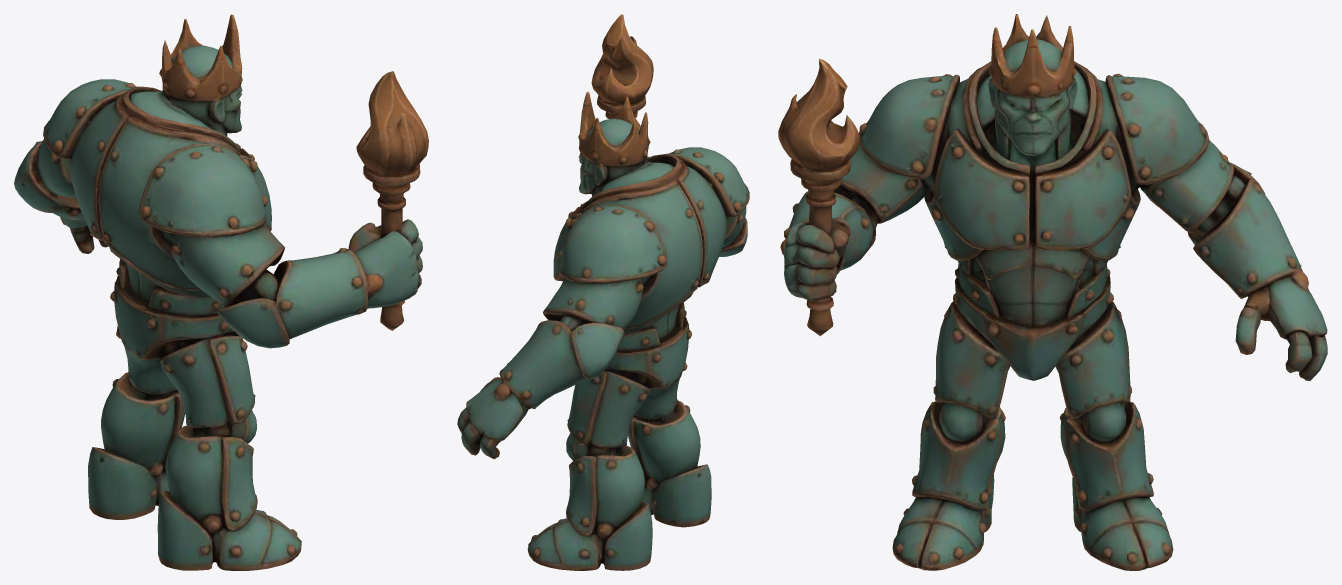
Rendered from copperGolem.glb.
3 renders of one model, left to right at view 1: azimuth 30°, elevation 25°; view 2: azimuth 150°, elevation 25°; view 3: azimuth 270°, elevation 25°, orthographic. The views are drawn at different scales.
Visible parts, largest first — view 1: geometry_0; view 2: geometry_0; view 3: geometry_0.
Boxes of the visible parts, x1,y1,x2,y2 form: geometry_0: (14, 14, 428, 570); geometry_0: (457, 14, 749, 570); geometry_0: (778, 14, 1327, 570).
Bounding box in the file's own units: 0.4744 × 0.9983 × 0.9303.
1 material, 1 textured.
